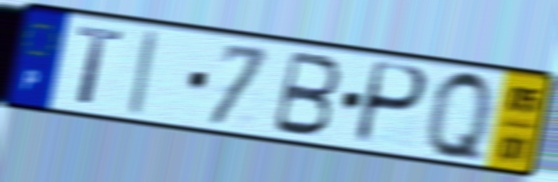7: (207, 42, 273, 128)
B: (268, 48, 344, 140)
I: (125, 27, 162, 119)
P: (350, 58, 431, 148)
Q: (425, 65, 495, 169)
T: (73, 23, 127, 108)
